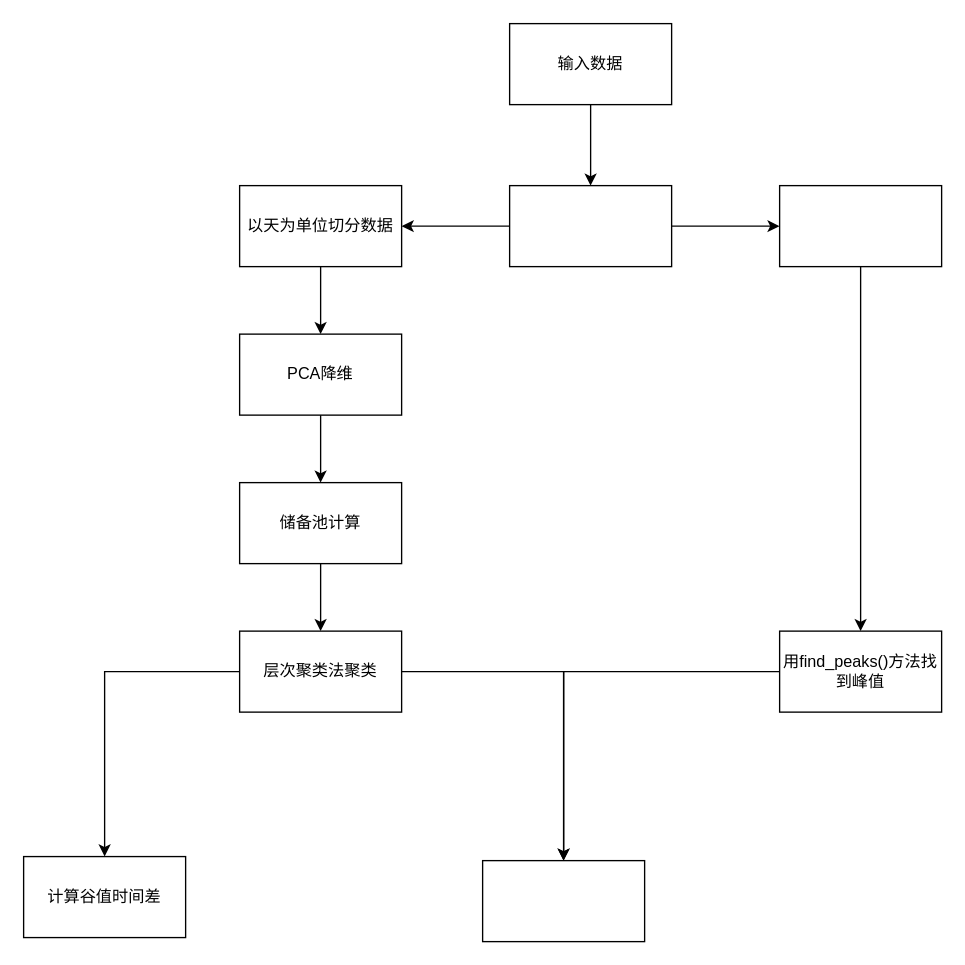
The diagram is 965 pixels wide and 965 high, and some of its shapes have lost their labels. Each missing label, with the box of its shape:
提取月度数据: (778, 184, 942, 267)
数据预处理: (508, 184, 672, 267)
计算峰值时间差: (481, 859, 645, 942)
